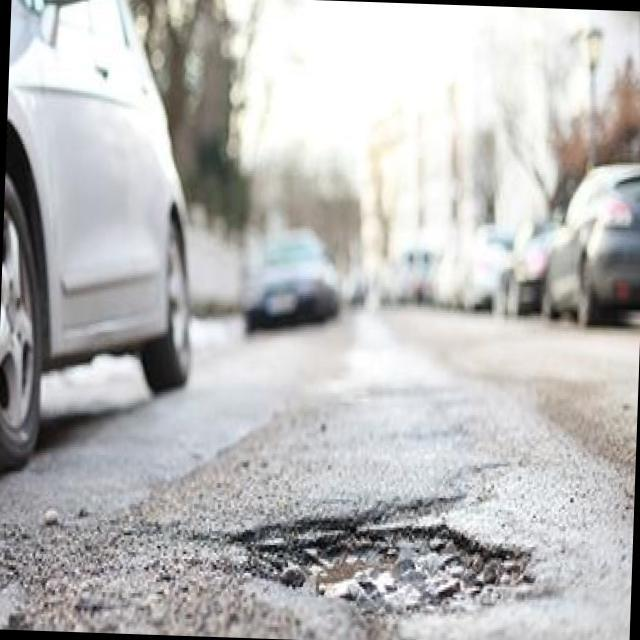Pothole: (234, 501, 538, 608)
